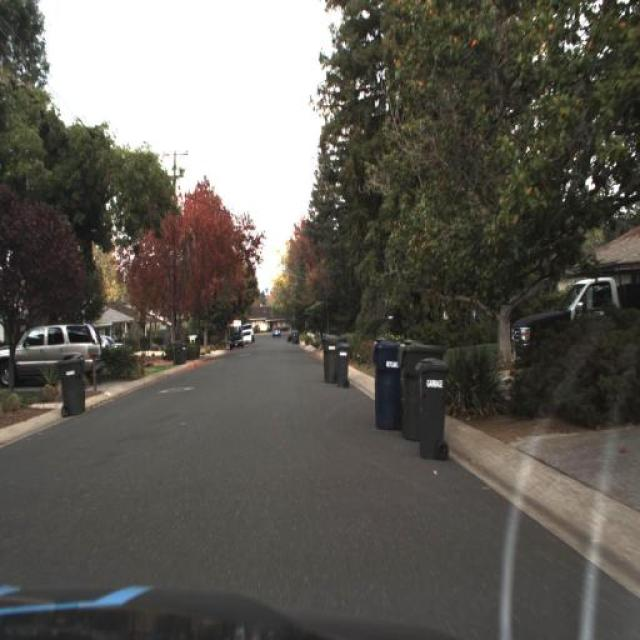car: (509, 275, 639, 377), (0, 305, 99, 397), (110, 332, 130, 357), (228, 330, 244, 351), (240, 322, 254, 342), (272, 327, 282, 337)
